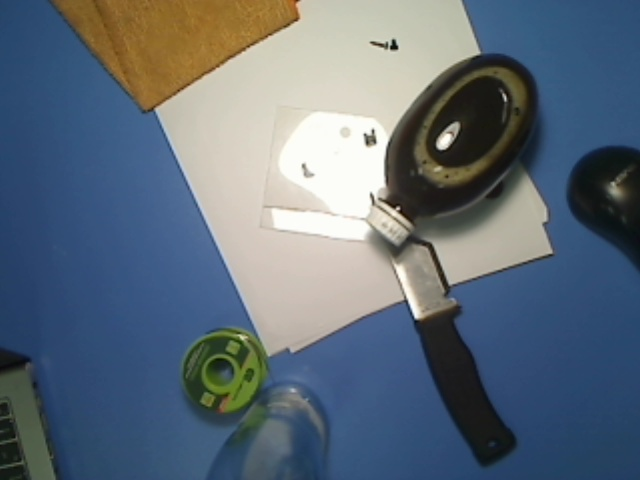plast_bottle: (360, 48, 546, 249)
